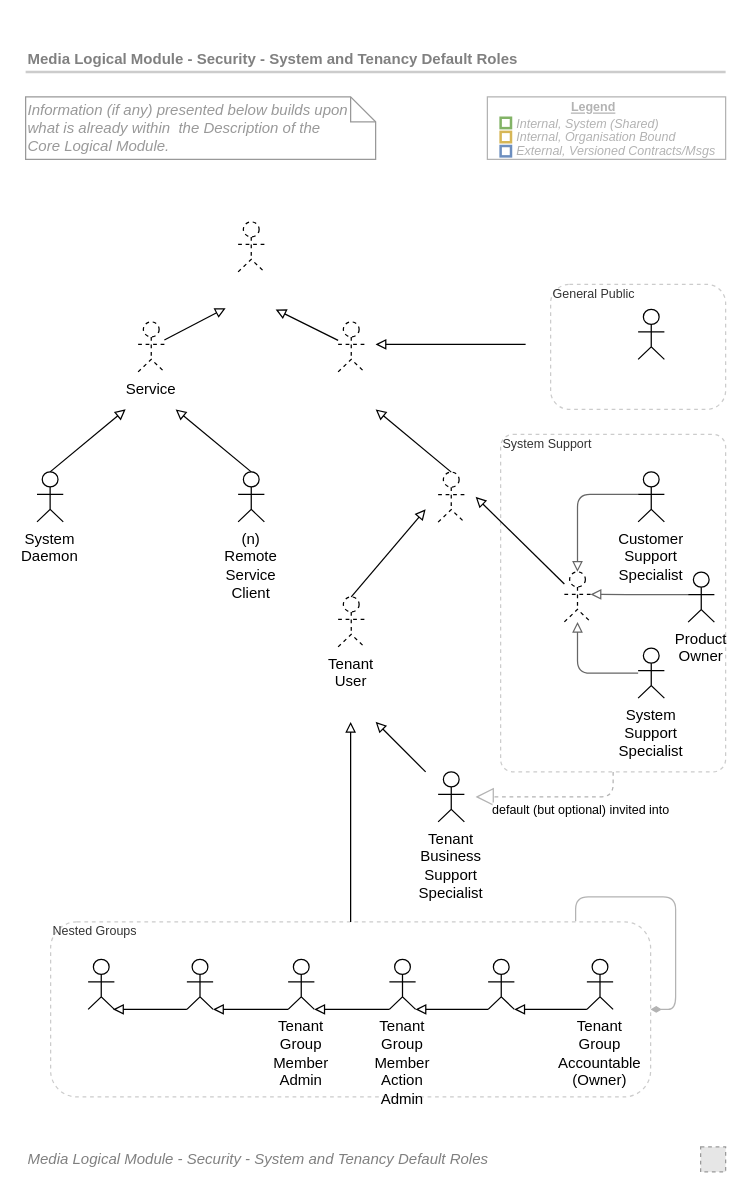
Some shapes in this 749 by 1194 pixel diagram are drawn without their labels. Grey dashed boxes stand in for pictures. Here are the shapes that lost their labels. From the top down, the centre of each, then its label:
At (x=250, y=246): "Security Principal".
At (x=350, y=346): "User".
At (x=650, y=333): "Anonymous User".
At (x=450, y=496): "Authenticated System User".
At (x=577, y=596): "Support".
At (x=100, y=983): "Tenant Group Member".
At (x=199, y=983): "Tenant Group Contact Person".
At (x=500, y=983): "Tenant Group Pay Admin".
